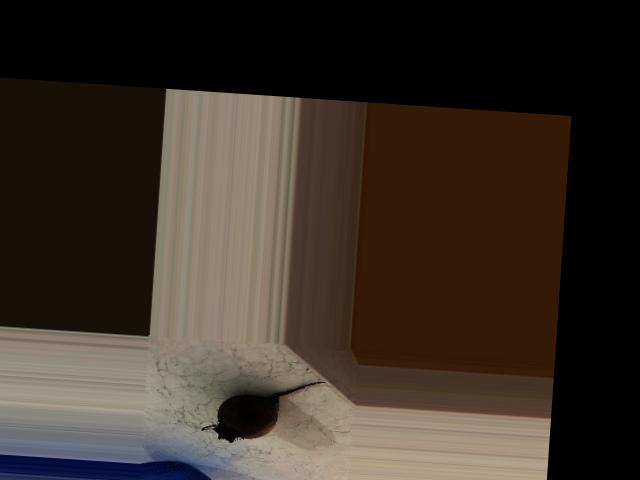beet: (201, 372, 325, 448)
